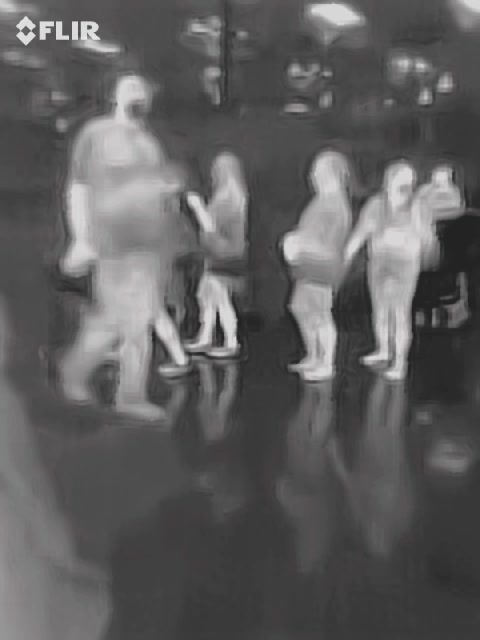head: (112, 73, 155, 122)
